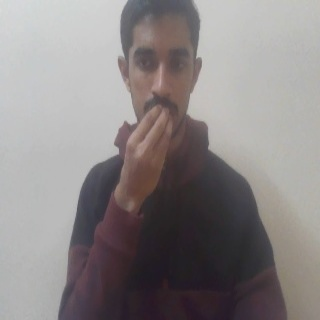Food: (115, 102, 173, 214)
